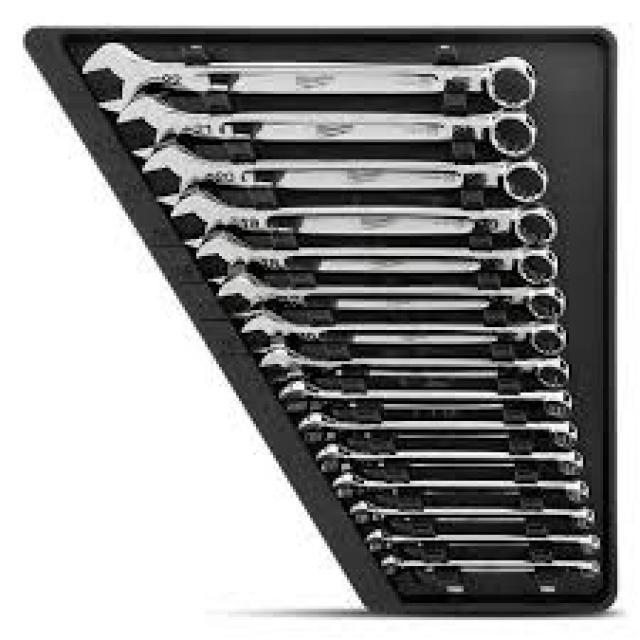wrench: (78, 34, 548, 112), (105, 94, 542, 162), (140, 143, 553, 211), (168, 188, 562, 250), (190, 233, 564, 292), (216, 269, 572, 317), (236, 309, 572, 357), (253, 348, 578, 391), (276, 378, 580, 419)
